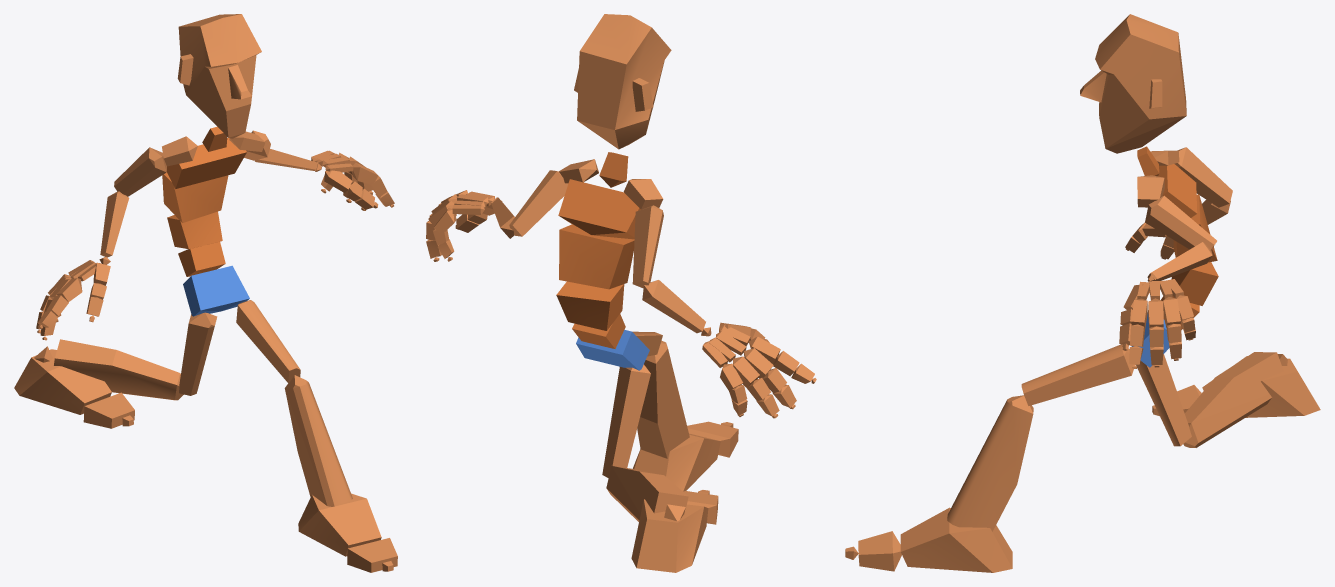
3 renders of one model, left to right at view 1: azimuth 30°, elevation 25°; view 2: azimuth 150°, elevation 25°; view 3: azimuth 270°, elevation 25°, orthographic. The views are drawn at different scales.
Visible parts, largest first — view 1: BOPED_Head, BOPED_L_leg, BOPED_R_leg, BOPED_R_foot, BOPED_R_foot01, Bone01, Bone04, Bone05, BOPED_L_legup, BOPED_R_legup, Bone03, BOPED_R_arm_upper (+7 smaller); view 2: BOPED_Head, BOPED_R_foot, Bone04, BOPED_L_leg, Bone05, BOPED_R_legup, BOPED_R_leg, BOPED_R_foot01, Bone03, BOPED_R_arm_upper, BOPED_L_arm_upper, Bone01 (+8 smaller); view 3: BOPED_Head, BOPED_L_leg, BOPED_R_foot01, BOPED_R_leg, BOPED_L_legup, BOPED_R_foot, BOPED_R_legup, BOPED_L_arm_upper, BOPED_R_arm_upper, BOPED_R_foot_toe04, Bone05, Bone03 (+2 smaller).
Boxes of the visible parts, x1,y1,x2,y2 form: BOPED_Head: [177, 14, 261, 138]; BOPED_L_leg: [284, 375, 352, 506]; BOPED_R_leg: [54, 339, 183, 400]; BOPED_R_foot: [14, 349, 111, 414]; BOPED_R_foot01: [298, 493, 381, 556]; Bone01: [183, 265, 249, 316]; Bone04: [162, 172, 228, 222]; Bone05: [166, 137, 246, 188]; BOPED_L_legup: [236, 300, 300, 383]; BOPED_R_legup: [179, 312, 217, 395]; Bone03: [167, 211, 222, 249]; BOPED_R_arm_upper: [114, 147, 166, 196]; BOPED_Head: [574, 14, 671, 149]; BOPED_R_foot: [631, 499, 708, 572]; Bone04: [559, 224, 634, 289]; BOPED_L_leg: [637, 340, 689, 458]; Bone05: [558, 179, 640, 239]; BOPED_R_legup: [602, 364, 650, 477]; BOPED_R_leg: [606, 465, 688, 521]; BOPED_R_foot01: [632, 433, 720, 491]; Bone03: [556, 281, 624, 330]; BOPED_R_arm_upper: [632, 205, 663, 288]; BOPED_L_arm_upper: [509, 170, 568, 236]; Bone01: [576, 329, 649, 370]; BOPED_Head: [1080, 14, 1186, 153]; BOPED_L_leg: [947, 395, 1033, 531]; BOPED_R_foot01: [900, 507, 1012, 572]; BOPED_R_leg: [1183, 352, 1283, 447]; BOPED_L_legup: [1021, 344, 1135, 405]; BOPED_R_foot: [1202, 356, 1320, 417]; BOPED_R_legup: [1136, 354, 1191, 446]; BOPED_L_arm_upper: [1145, 195, 1216, 250]; BOPED_R_arm_upper: [1174, 147, 1232, 207]; BOPED_R_foot_toe04: [858, 531, 901, 571]; Bone05: [1158, 164, 1197, 217]; Bone03: [1171, 262, 1218, 305].
Bounding box in the file's own units: 130 × 169 × 140.
